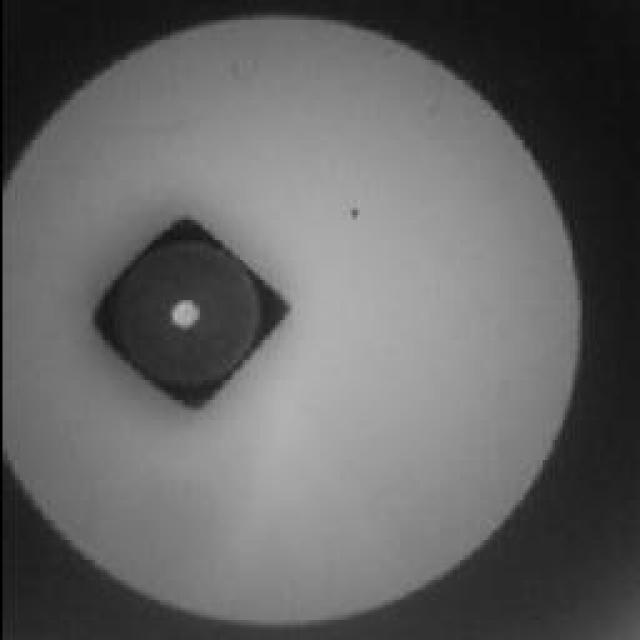dice_1: (77, 220, 295, 415)
